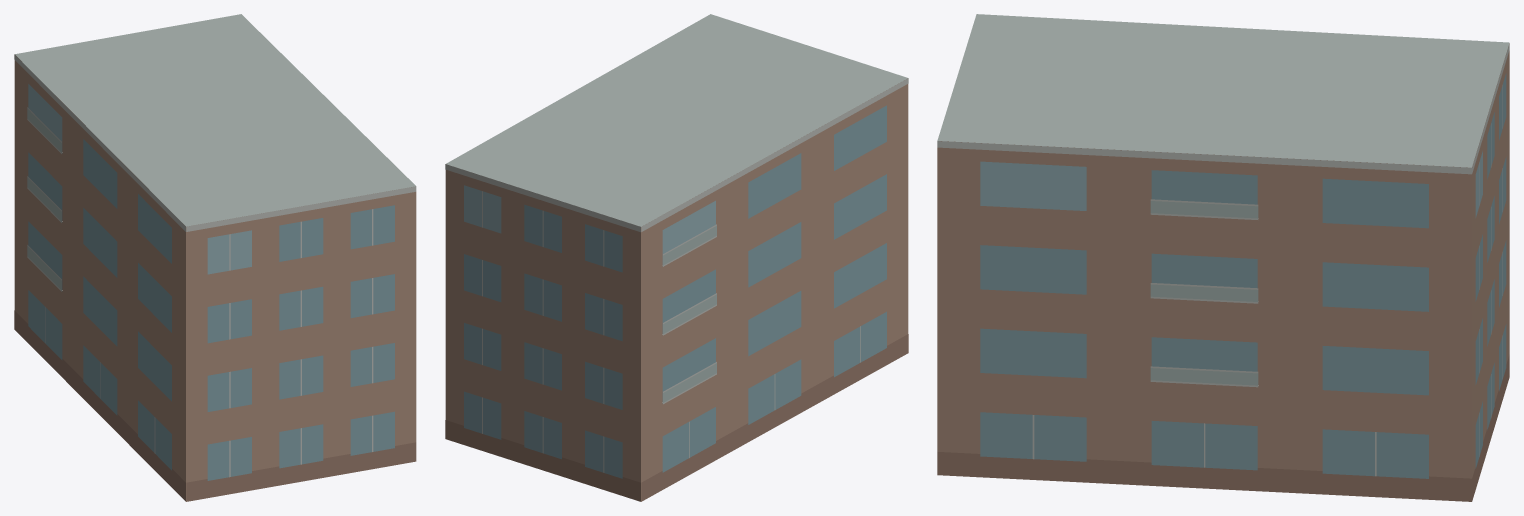
Rendered from survey-upis-33009612.glb.
The picture shows the model from 3 angles, left to right: view 1: azimuth 30°, elevation 25°; view 2: azimuth 150°, elevation 25°; view 3: azimuth 270°, elevation 25°; orthographic projection. The views are drawn at different scales.
Visible parts, largest first — view 1: survey-upis-33009612.tmp; view 2: survey-upis-33009612.tmp; view 3: survey-upis-33009612.tmp.
Boxes of the visible parts, x1,y1,x2,y2 form: survey-upis-33009612.tmp: [14, 14, 416, 501]; survey-upis-33009612.tmp: [445, 14, 908, 501]; survey-upis-33009612.tmp: [937, 14, 1509, 501].
Bounding box in the file's own units: 12.04 × 12.2 × 18.94.
